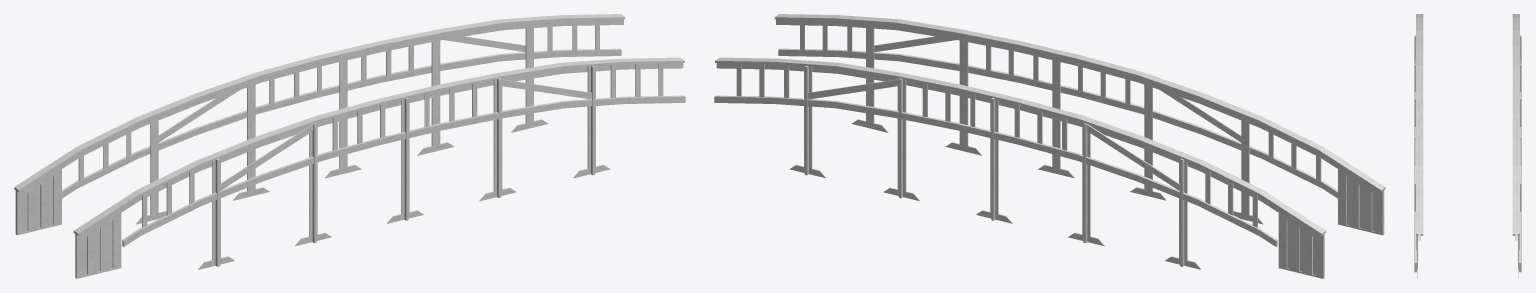
File: BridgeFrame_A_001.fbx
The picture shows the model from 3 angles, left to right: view 1: azimuth 30°, elevation 25°; view 2: azimuth 150°, elevation 25°; view 3: azimuth 270°, elevation 25°; orthographic projection. The views are drawn at different scales.
Parts seen in each view (by area): view 1: BridgeFrame_A_001; view 2: BridgeFrame_A_001; view 3: BridgeFrame_A_001.
Boxes of the visible parts, x1,y1,x2,y2 form: BridgeFrame_A_001: (14,14,685,278); BridgeFrame_A_001: (714,14,1385,278); BridgeFrame_A_001: (1414,14,1521,278).
Bounding box in the file's own units: 1597 × 310 × 302.
Materials: 1 (1 with a texture image).
